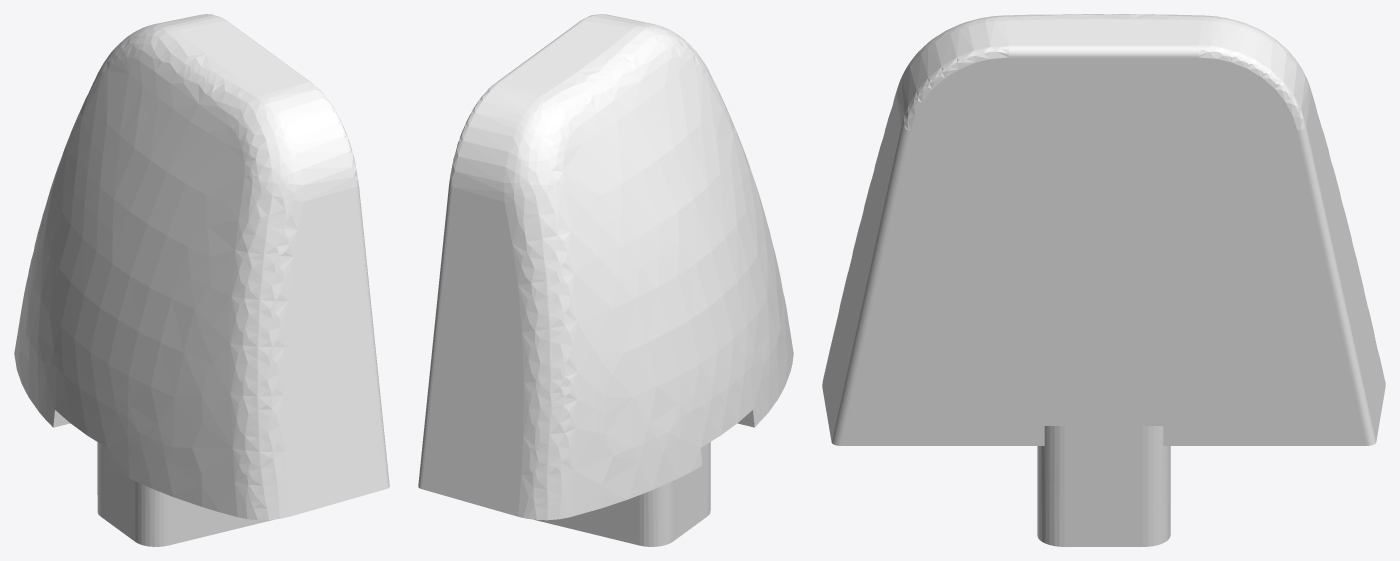
The model's file is hand_f2.dae.
3 renders of one model, left to right at view 1: azimuth 30°, elevation 25°; view 2: azimuth 150°, elevation 25°; view 3: azimuth 270°, elevation 25°, orthographic. The views are drawn at different scales.
Visible parts, largest first — view 1: tmp_export_hand_f2; view 2: tmp_export_hand_f2; view 3: tmp_export_hand_f2.
Boxes of the visible parts, x1,y1,x2,y2 form: tmp_export_hand_f2: (14, 14, 389, 546); tmp_export_hand_f2: (418, 14, 793, 546); tmp_export_hand_f2: (822, 14, 1385, 546).
Size of the model in its own units: 0.0139 by 0.0309 by 0.0303.
1 material, 1 textured.
